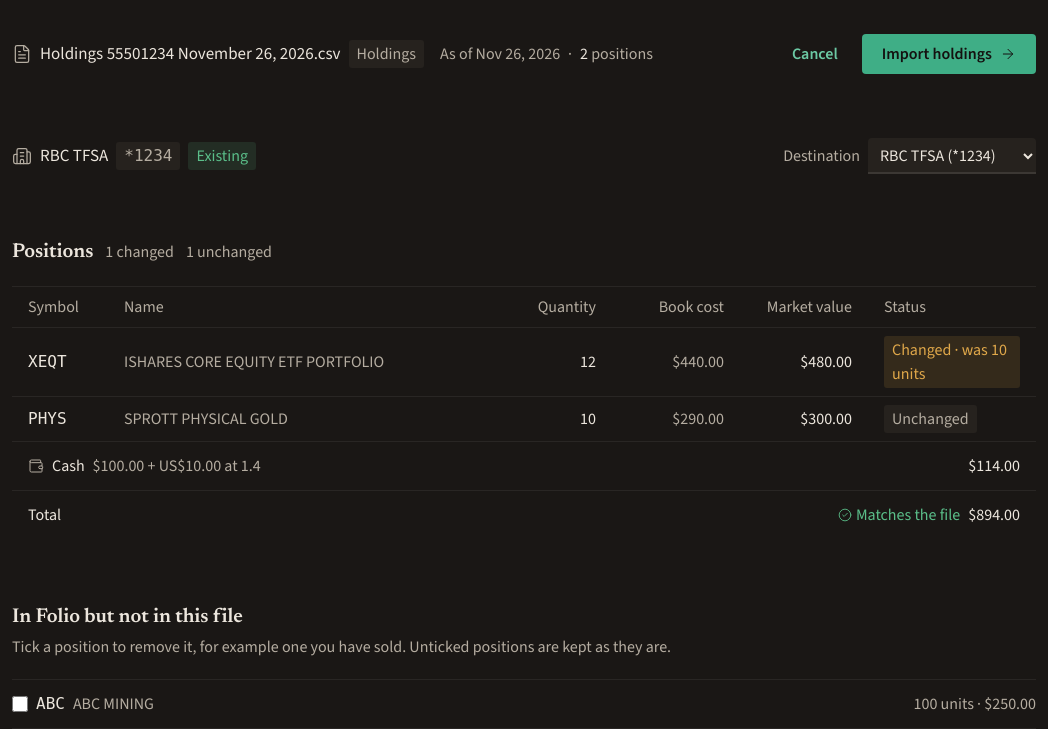
Test case: Holdings export import › keeps positions missing from the file unless ticked, and sends the snapshot
The width and height of the screenshot is (1048, 729).
Earlier steps of the test are not shown.
(page scrolled)
Expected: the heading "Positions" is shown, [12,238,93,266]
Click the checkbox named "Remove ABC" at (20, 704), box [12,696,28,712]
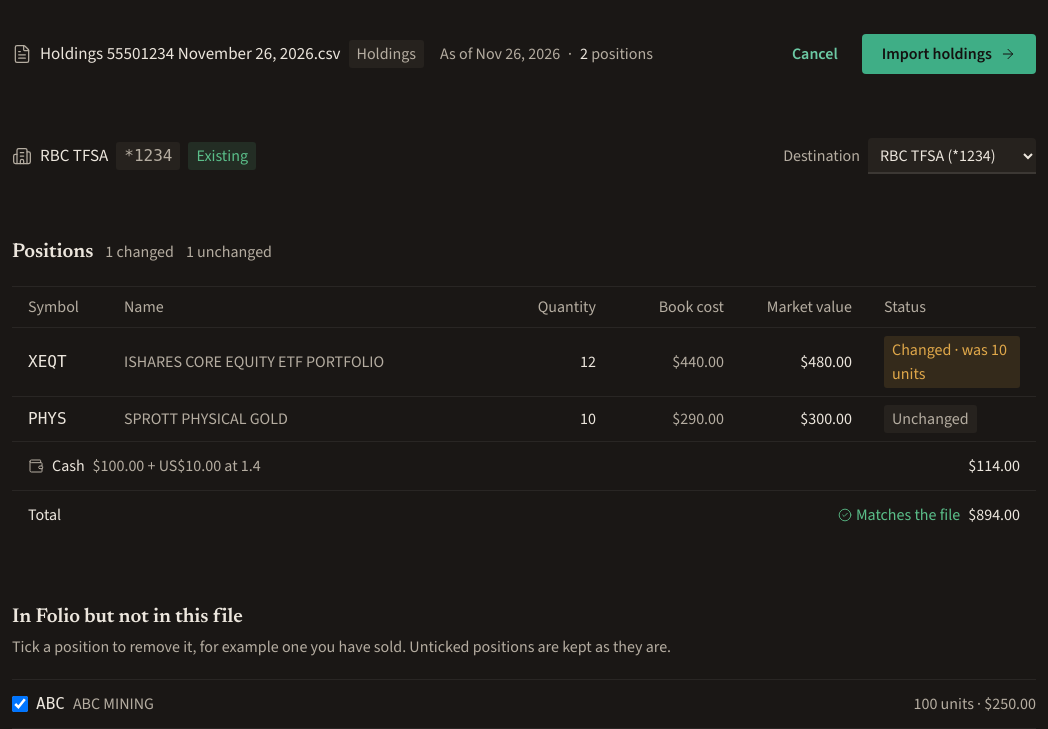
Click the button "Import holdings" at (949, 54), box [862,34,1036,74]
(page scrolled)
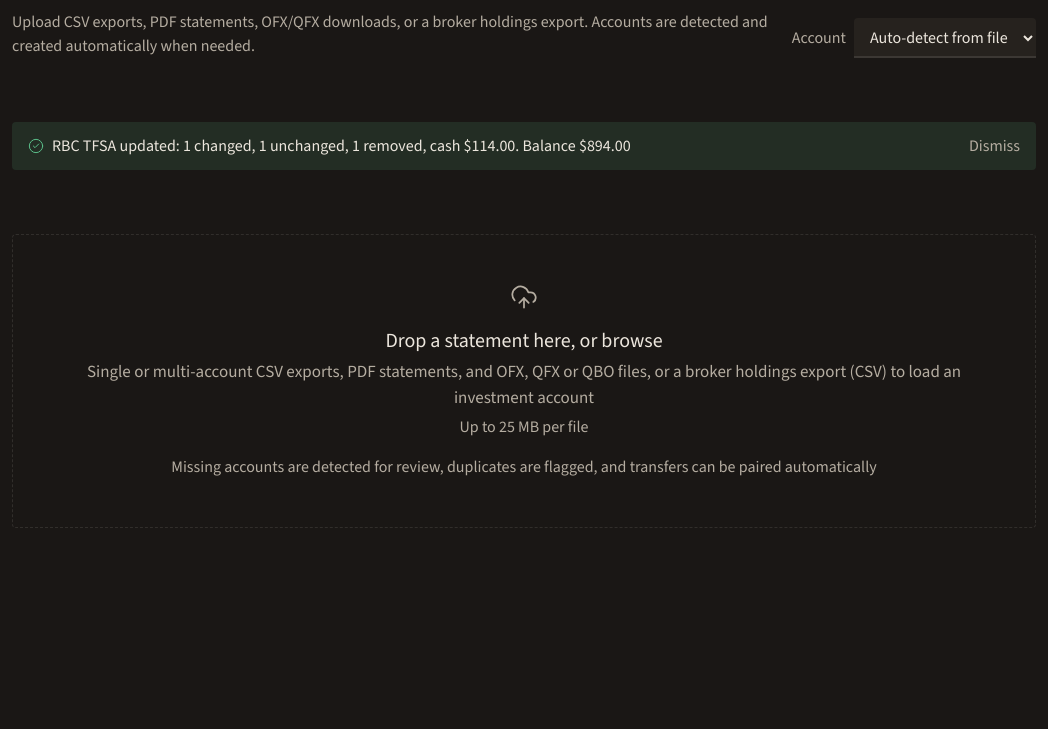
Expected: the text "RBC TFSA updated: 1 changed, 1 unchanged, 1 removed" is shown, [52,135,631,156]
